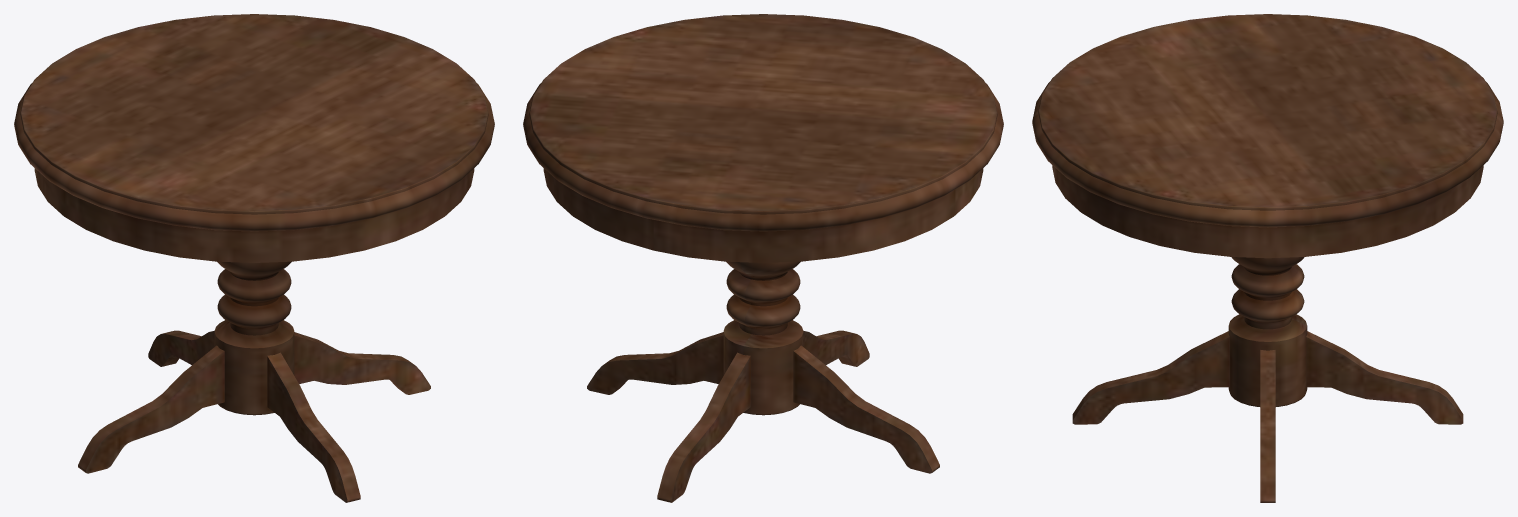
The model's file is table.glb.
3 renders of one model, left to right at view 1: azimuth 30°, elevation 25°; view 2: azimuth 150°, elevation 25°; view 3: azimuth 270°, elevation 25°, orthographic.
Visible parts, largest first — view 1: pCylinder6; view 2: pCylinder6; view 3: pCylinder6.
Part boxes in pixels (x1,y1,x2,y2): pCylinder6: (14,14,494,502); pCylinder6: (523,14,1003,502); pCylinder6: (1032,14,1503,502).
Bounding box in the file's own units: 4.53 × 3.3 × 4.53.
Materials: 1 (1 with a texture image).
